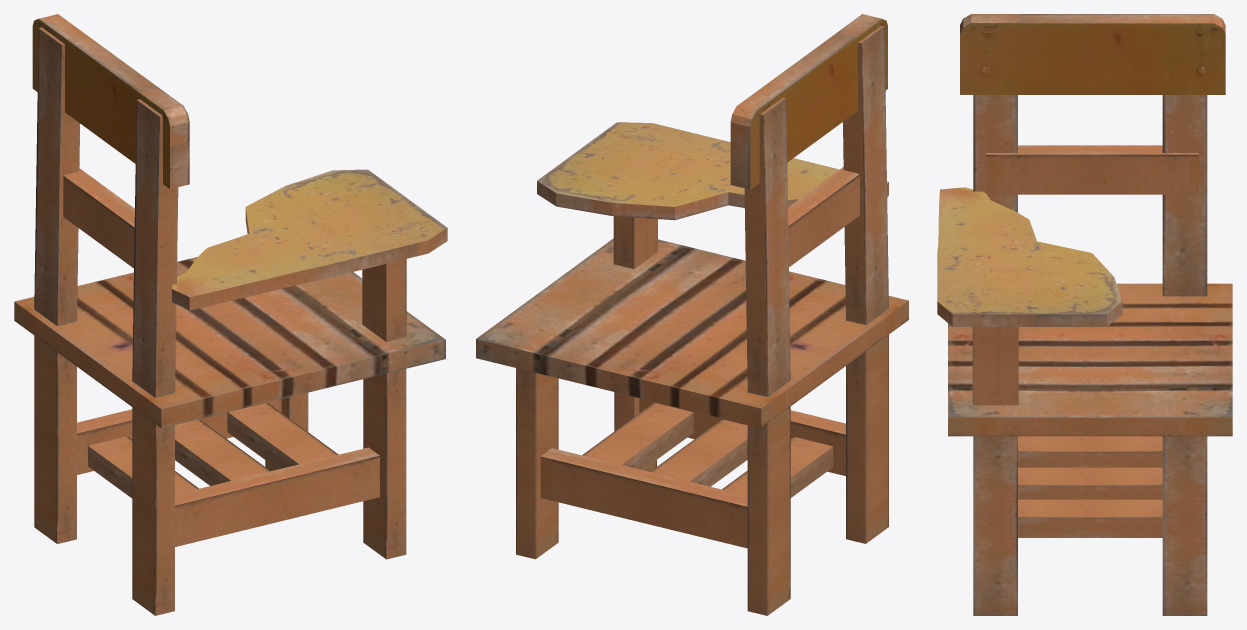
Rendered from chair.fbx.
3 views of the same model, side by side, from view 1: azimuth 30°, elevation 25°; view 2: azimuth 150°, elevation 25°; view 3: azimuth 270°, elevation 25° (orthographic). The views are drawn at different scales.
Visible parts, largest first — view 1: chair; view 2: chair; view 3: chair.
Boxes of the visible parts, bbox=[...] form: chair: bbox=[14, 14, 447, 615]; chair: bbox=[476, 14, 908, 615]; chair: bbox=[937, 14, 1232, 615].
Bounding box in the file's own units: 180 × 301 × 165.
